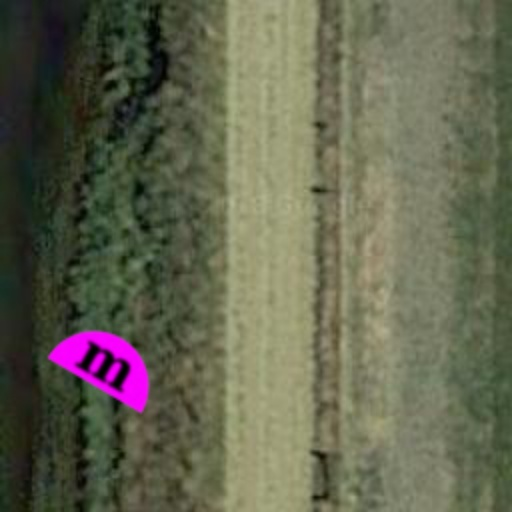semicircle: (32, 286, 184, 438)
